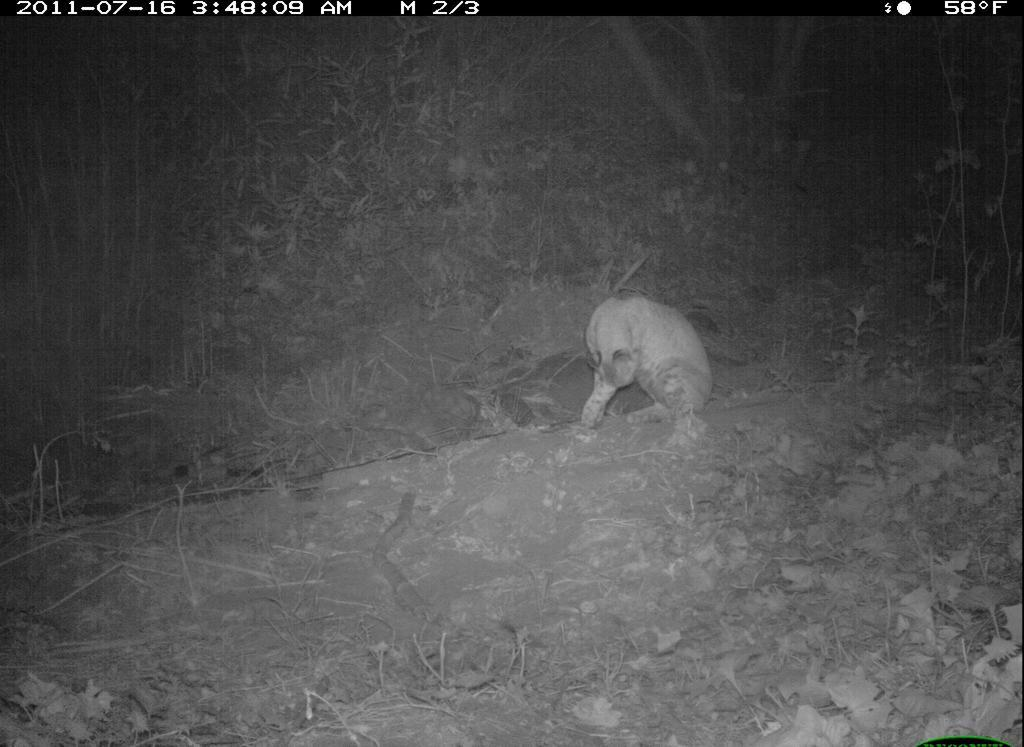bobcat: (562, 276, 731, 460)
